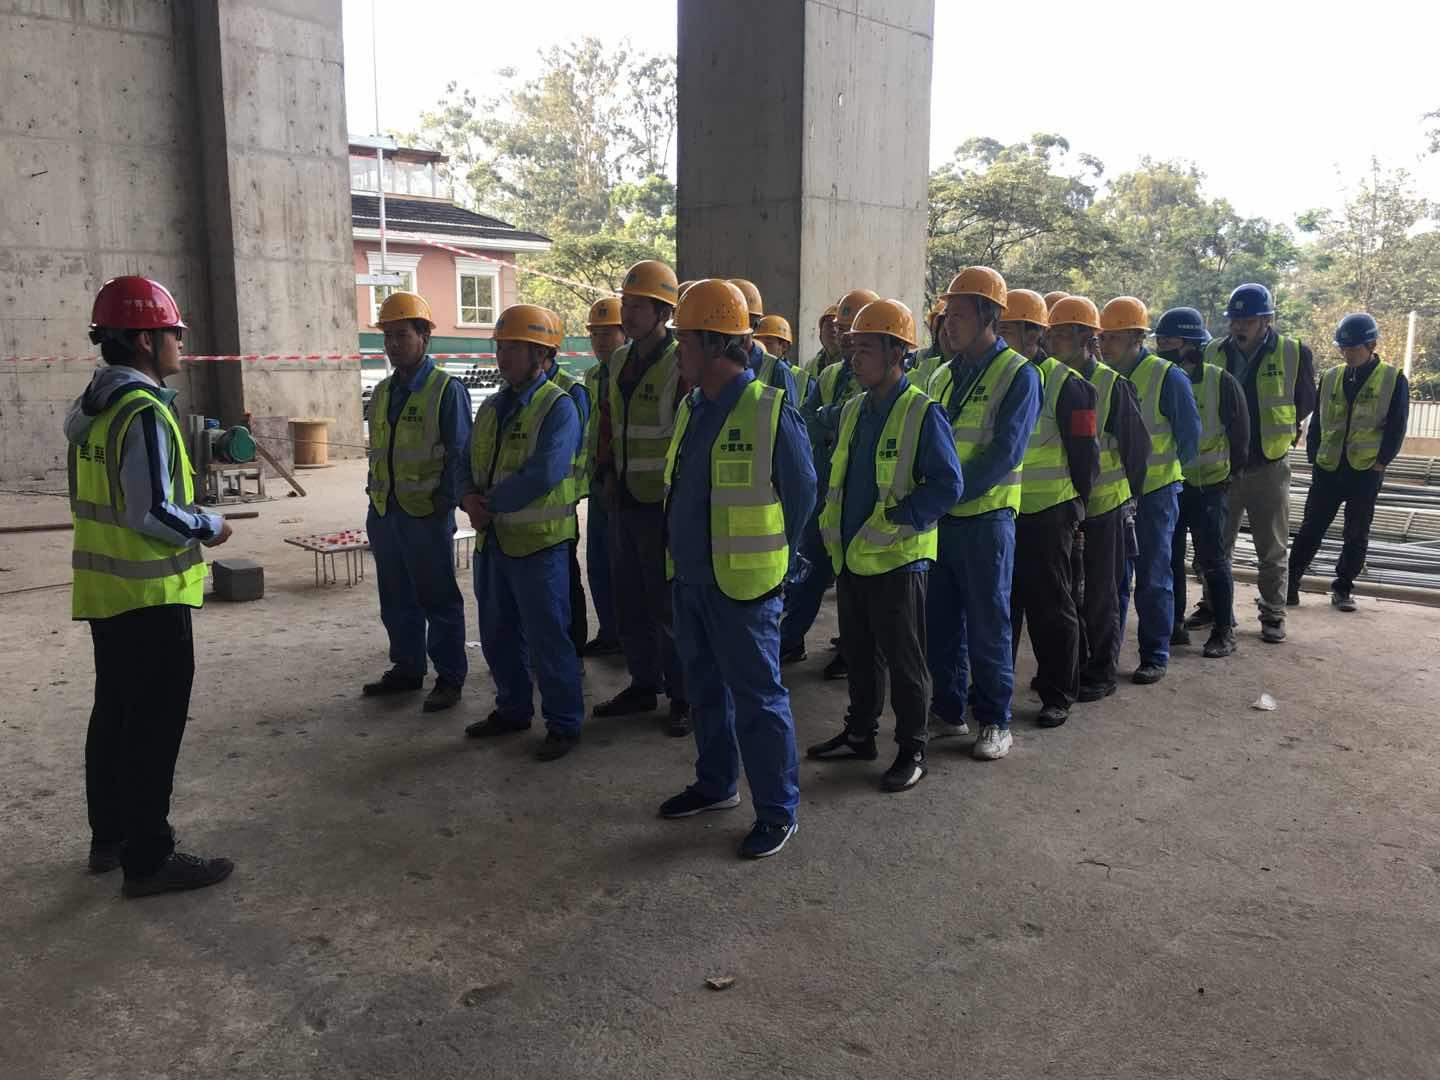person: (59, 269, 237, 900), (656, 277, 821, 862), (808, 302, 966, 793), (926, 264, 1047, 758), (466, 299, 593, 758), (356, 288, 475, 714), (1182, 280, 1318, 643), (592, 248, 686, 736), (1000, 286, 1103, 728), (1047, 291, 1153, 700), (1098, 288, 1203, 682), (1288, 306, 1413, 611), (1150, 300, 1253, 660)
reflective_vest: (68, 387, 210, 625), (659, 380, 793, 597), (816, 382, 940, 577), (466, 378, 581, 558), (928, 345, 1047, 517), (364, 365, 456, 519), (604, 339, 681, 505), (1203, 334, 1304, 458), (1315, 363, 1403, 473), (1019, 355, 1075, 517), (1128, 352, 1187, 494), (1084, 361, 1134, 517), (1184, 361, 1231, 483)
safety_helmet: (90, 272, 188, 377), (665, 277, 753, 387), (843, 300, 923, 392), (940, 264, 1011, 358), (489, 299, 565, 386), (369, 286, 437, 370), (618, 254, 681, 341), (1096, 292, 1157, 366), (1045, 292, 1104, 368), (996, 287, 1051, 360), (1223, 281, 1281, 349), (1150, 305, 1216, 363), (585, 295, 631, 362), (1333, 308, 1378, 366), (754, 310, 794, 360), (818, 300, 845, 355)
